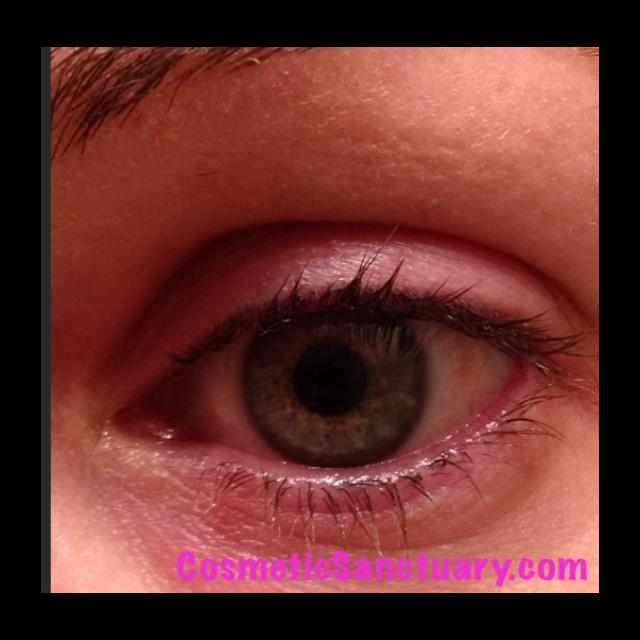eye: (172, 296, 519, 469)
iris: (245, 308, 429, 465)
